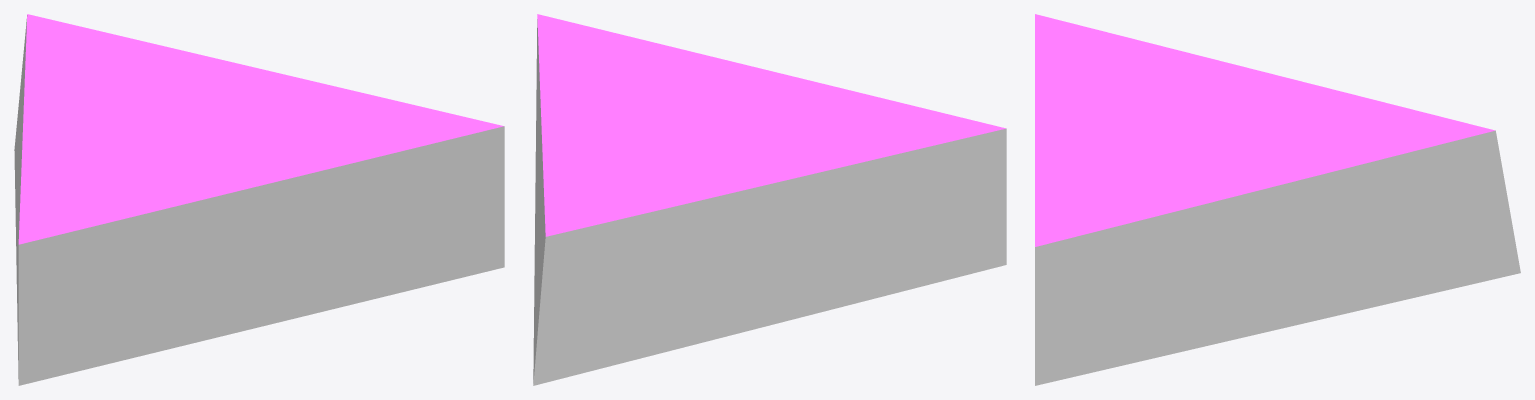
Rendered from BumperTri.fbx.
3 views of the same model, side by side, from view 1: azimuth 30°, elevation 25°; view 2: azimuth 150°, elevation 25°; view 3: azimuth 270°, elevation 25° (orthographic). The views are drawn at different scales.
Visible parts, largest first — view 1: Cube.001; view 2: Cube.001; view 3: Cube.001.
Part boxes in pixels (left/top/right/bottom): Cube.001: left=14, top=14, right=504, bottom=385; Cube.001: left=533, top=14, right=1006, bottom=385; Cube.001: left=1035, top=14, right=1520, bottom=385.
Bounding box in the file's own units: 363 × 103 × 319.
